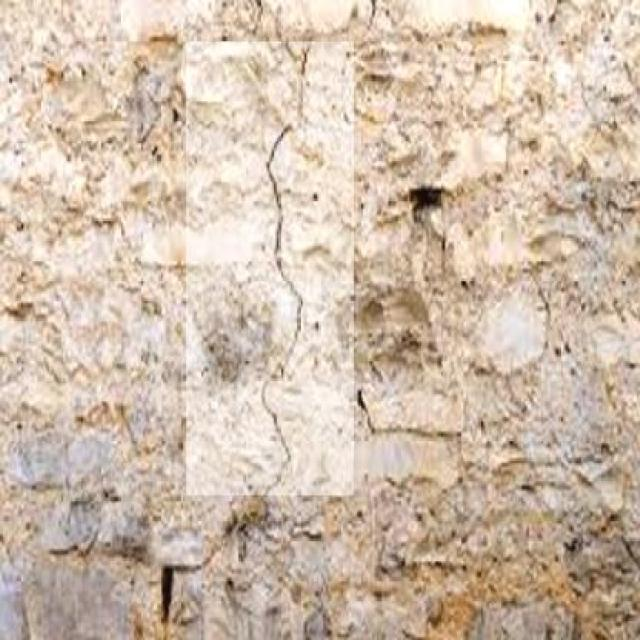Crack: (184, 47, 350, 487)
